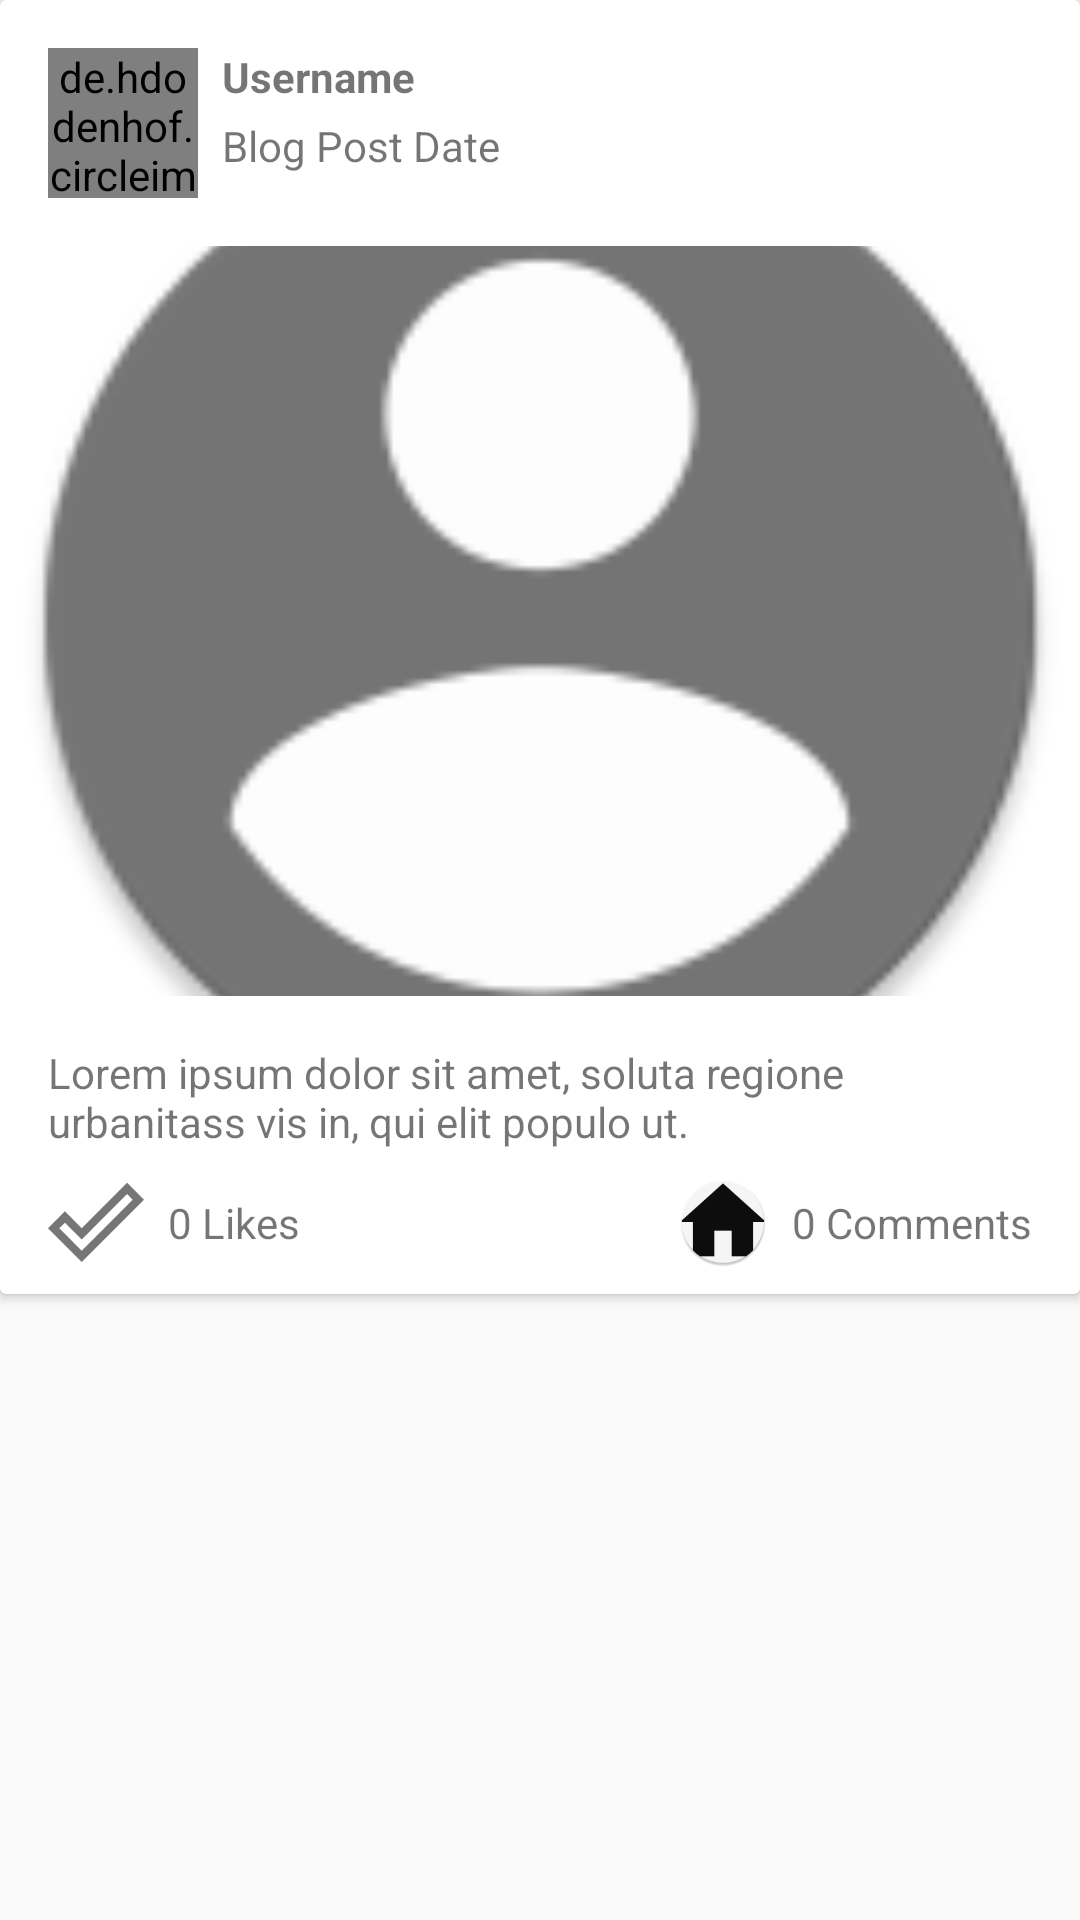

Icons on this 1080×1920 Android screen, each with its box as (x1, y1, x2, y2):
home: (681, 1183, 765, 1265)
